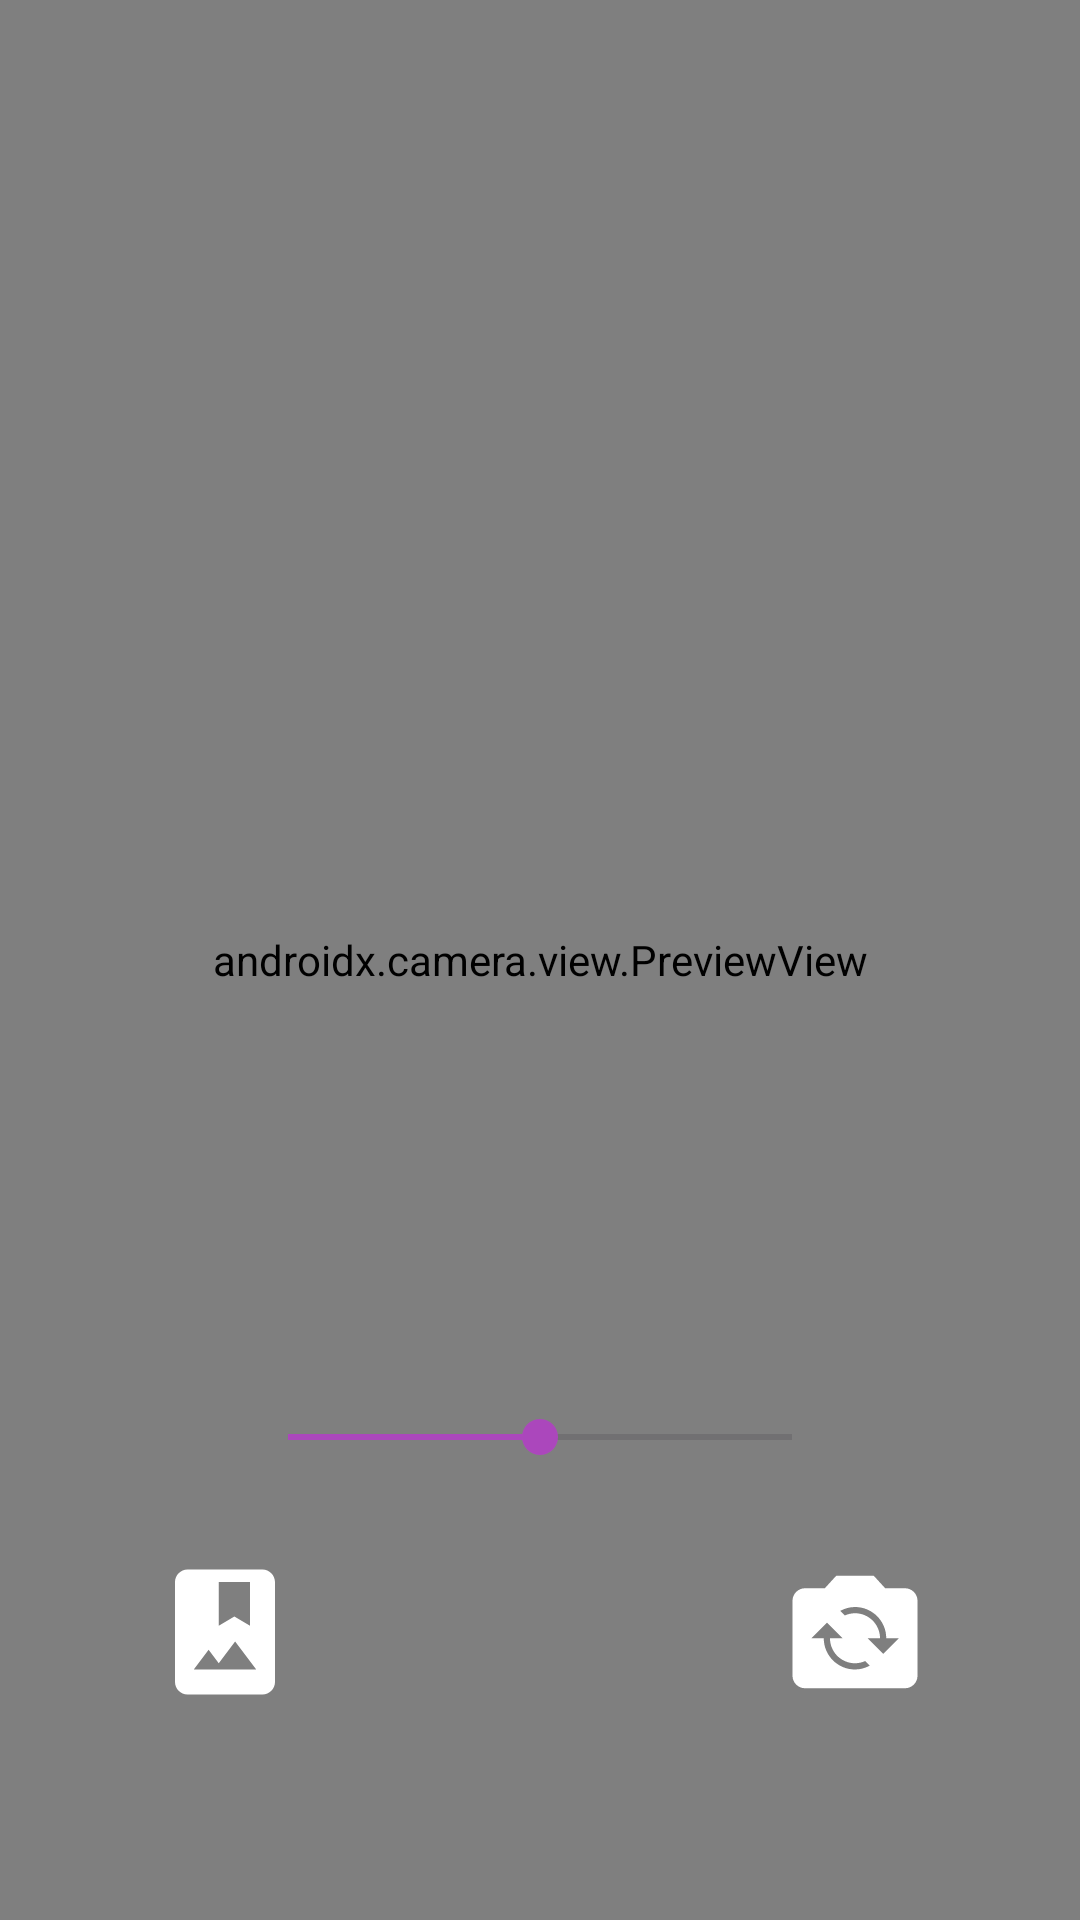

Icons on this 1080px×1920px Android screen, each with its box as [x1,y1,x2,y2]:
Gallery: [175,1569,275,1695]
Rotate Camera: [792,1575,918,1689]
